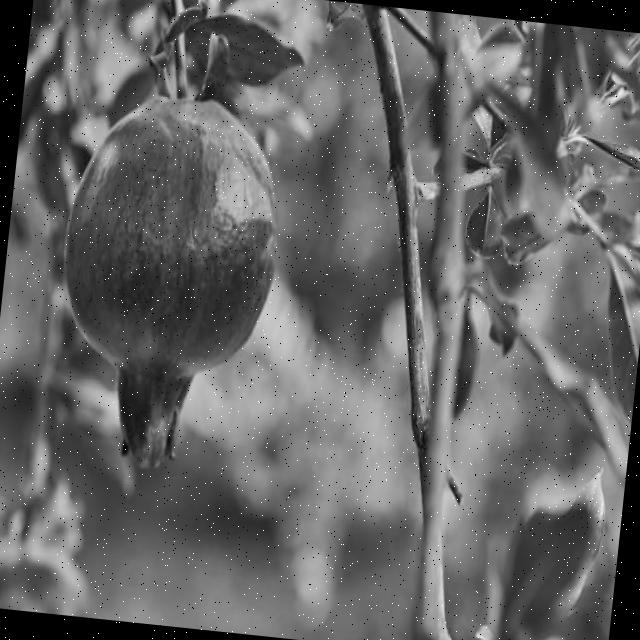Ripe: (40, 79, 295, 482)
